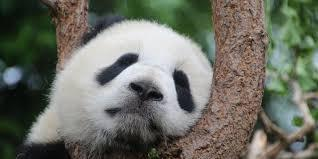Non_Gorille: (26, 1, 244, 159)
